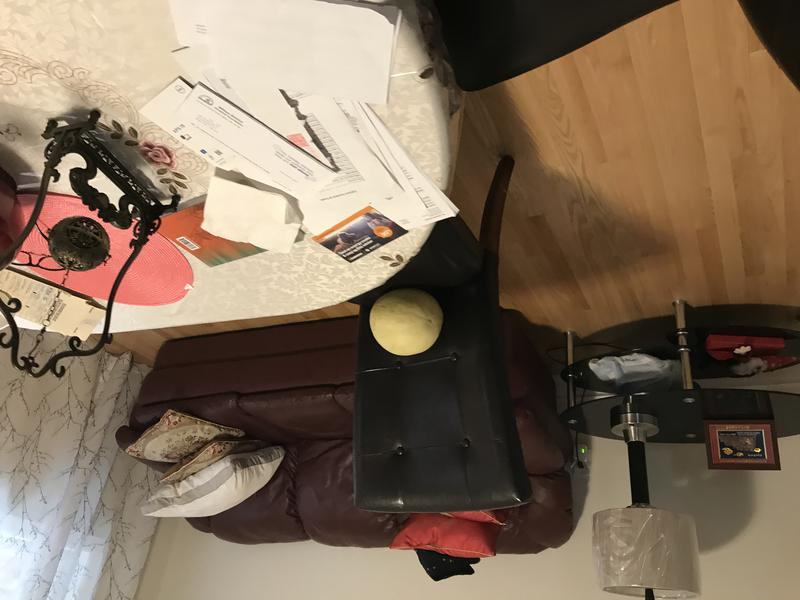honeydew: (362, 284, 449, 360)
